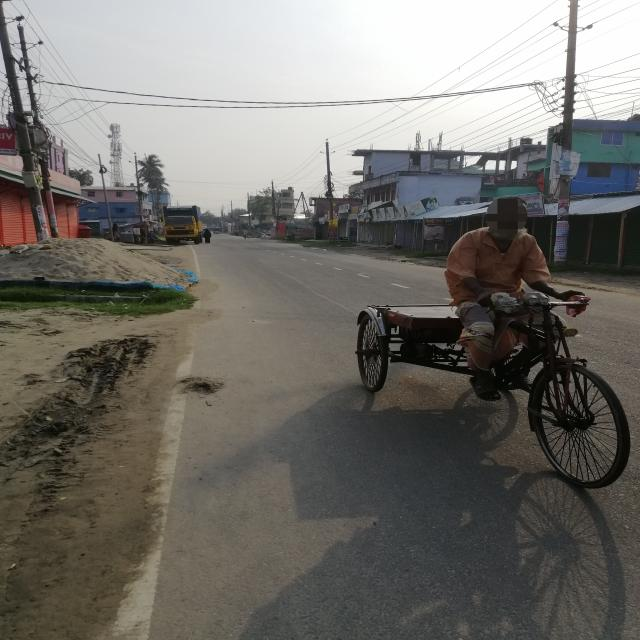Van: (343, 292, 633, 493)
